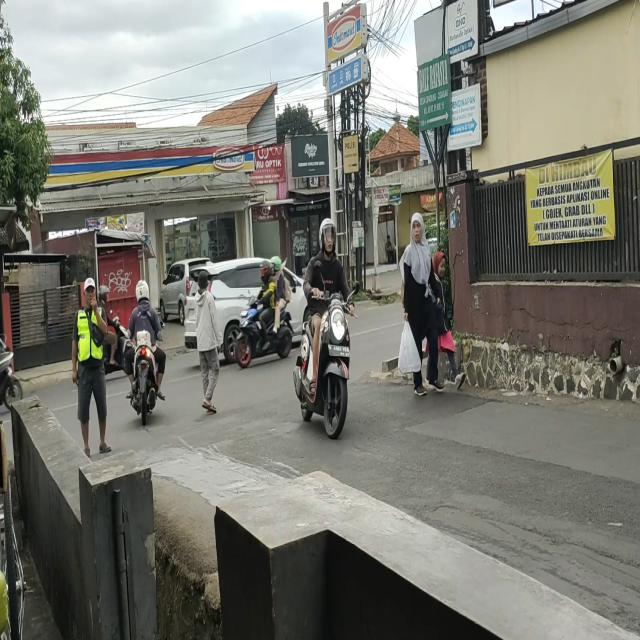helmet: (320, 217, 336, 252), (136, 281, 149, 301), (270, 257, 281, 274), (260, 262, 270, 280), (100, 286, 108, 303)
